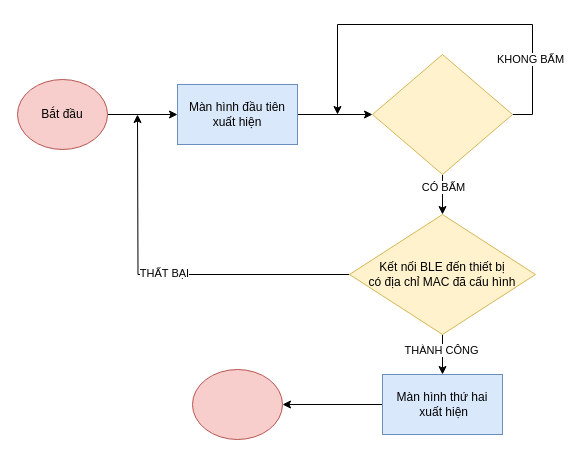
The diagram is 581 pixels wide and 457 high, and some of its shapes have lost their labels. Each missing label, with the centre of its shape:
"Có sự kiện bấm vào nút kết nối" belongs at [442,114].
"Kết thúc" belongs at [237,404].
